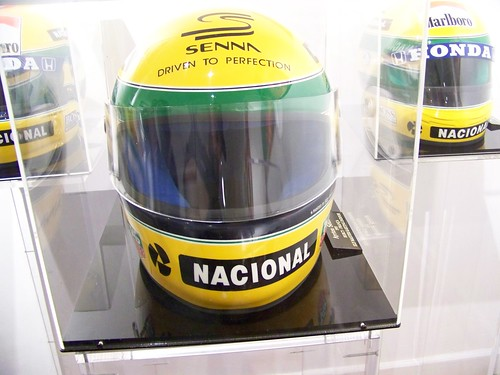helmet: (94, 12, 336, 318), (364, 3, 493, 142)
